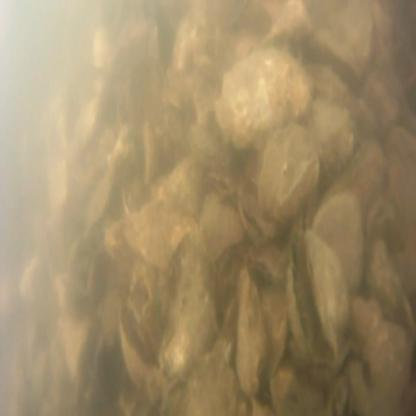Oyster-Closed: (216, 47, 315, 147), (160, 247, 217, 364), (260, 124, 318, 229), (163, 346, 236, 416), (313, 193, 365, 278), (235, 267, 268, 399), (314, 12, 372, 77), (309, 97, 352, 183), (372, 328, 415, 401), (196, 188, 238, 258), (275, 369, 321, 416)
Oyster-Open: (286, 229, 350, 376)
